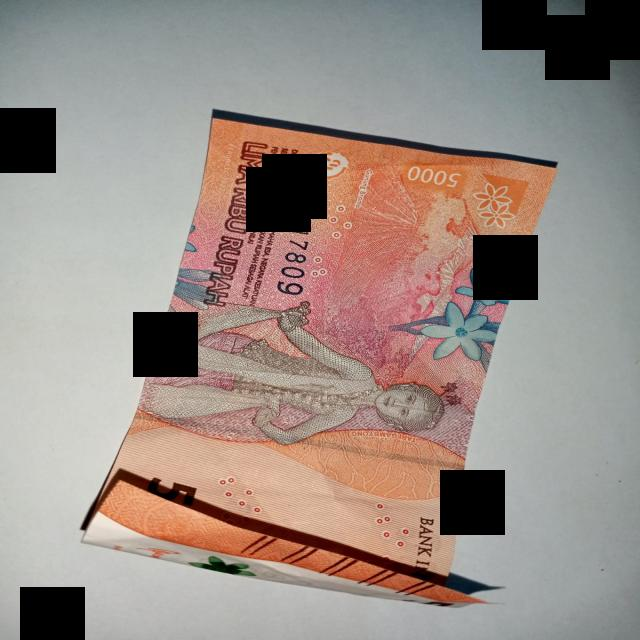lima ribu rupiah: (83, 116, 557, 614)
